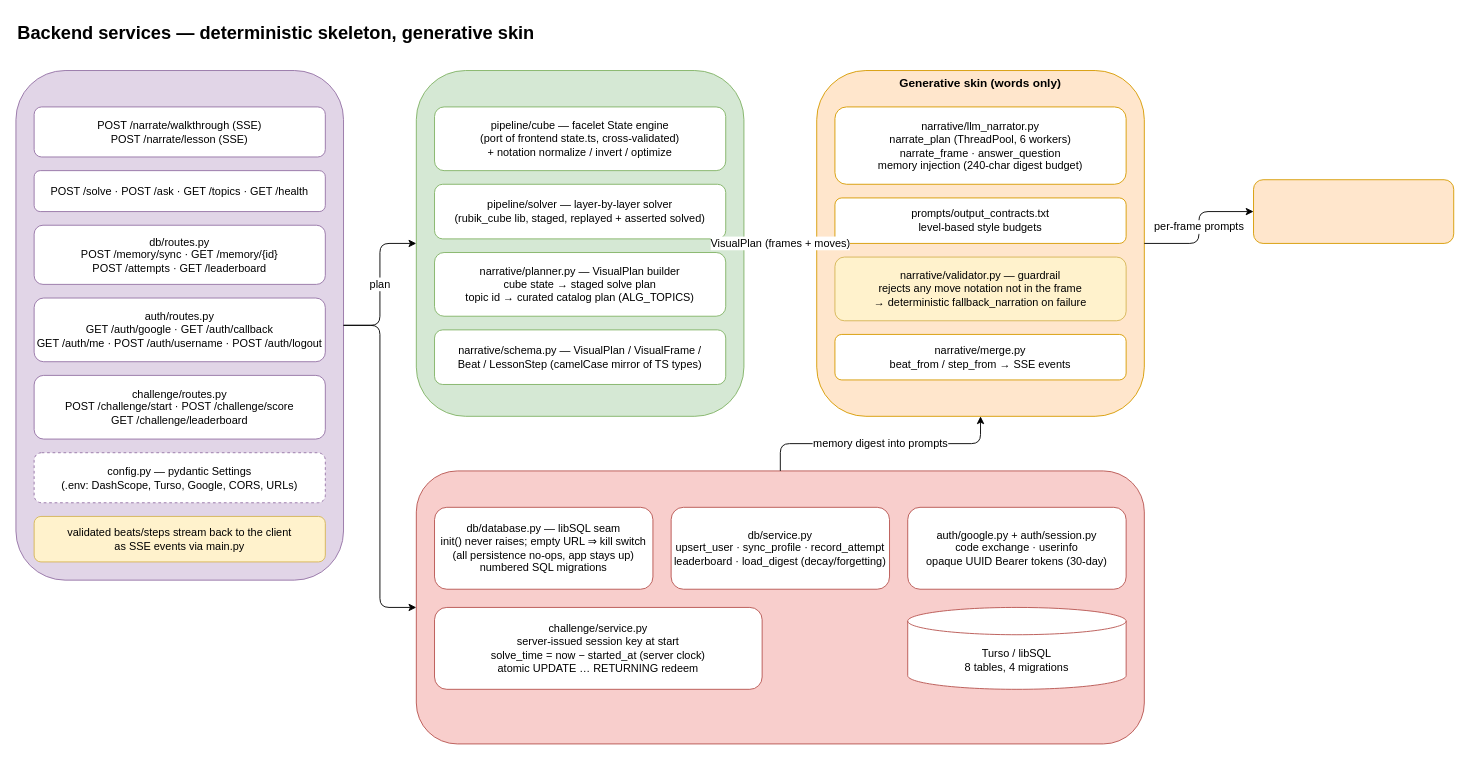
The diagram is 1470 pixels wide and 760 high, and some of its shapes have lost their labels. The shapes that lost their labels are listed below. From the top down, each one's box as (x1, y1, x2, y2) in pixels, then its label:
(1253, 179, 1454, 243): DashScope — Qwen (qwen-plus)
(415, 70, 744, 416): Deterministic skeleton (tested, cannot be broken by the LLM)
(15, 70, 344, 580): HTTP layer — main.py (FastAPI + CORS + lifespan)
(415, 470, 1144, 744): Persistence & identity
